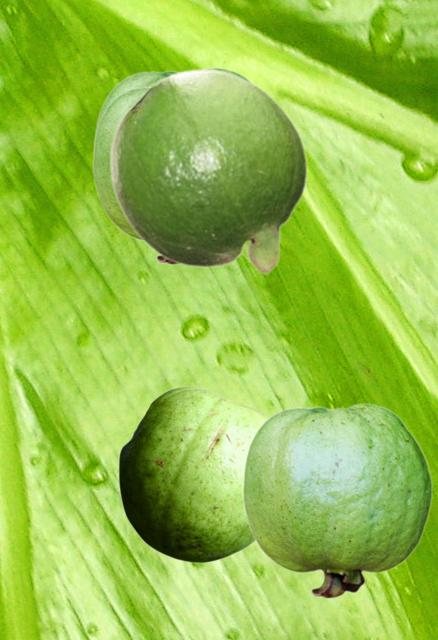guava: (108, 67, 307, 275), (242, 403, 432, 598), (118, 386, 267, 562), (92, 85, 173, 264), (93, 67, 247, 140)
